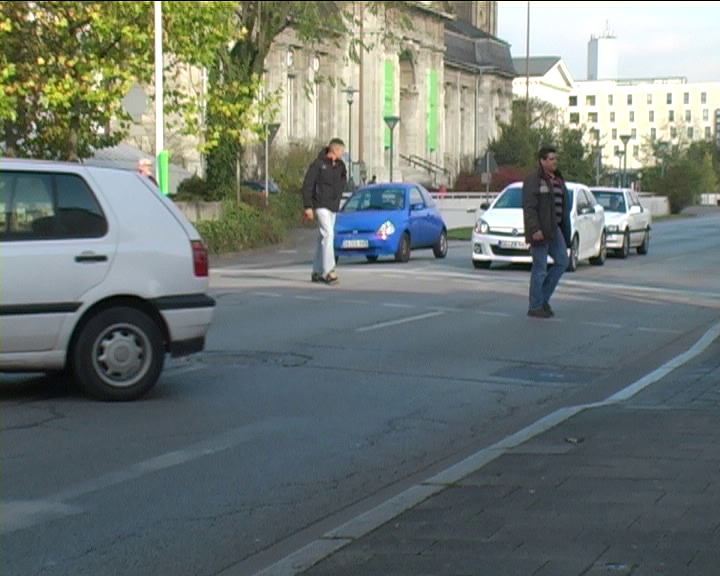deflection: (313, 136, 349, 193)
